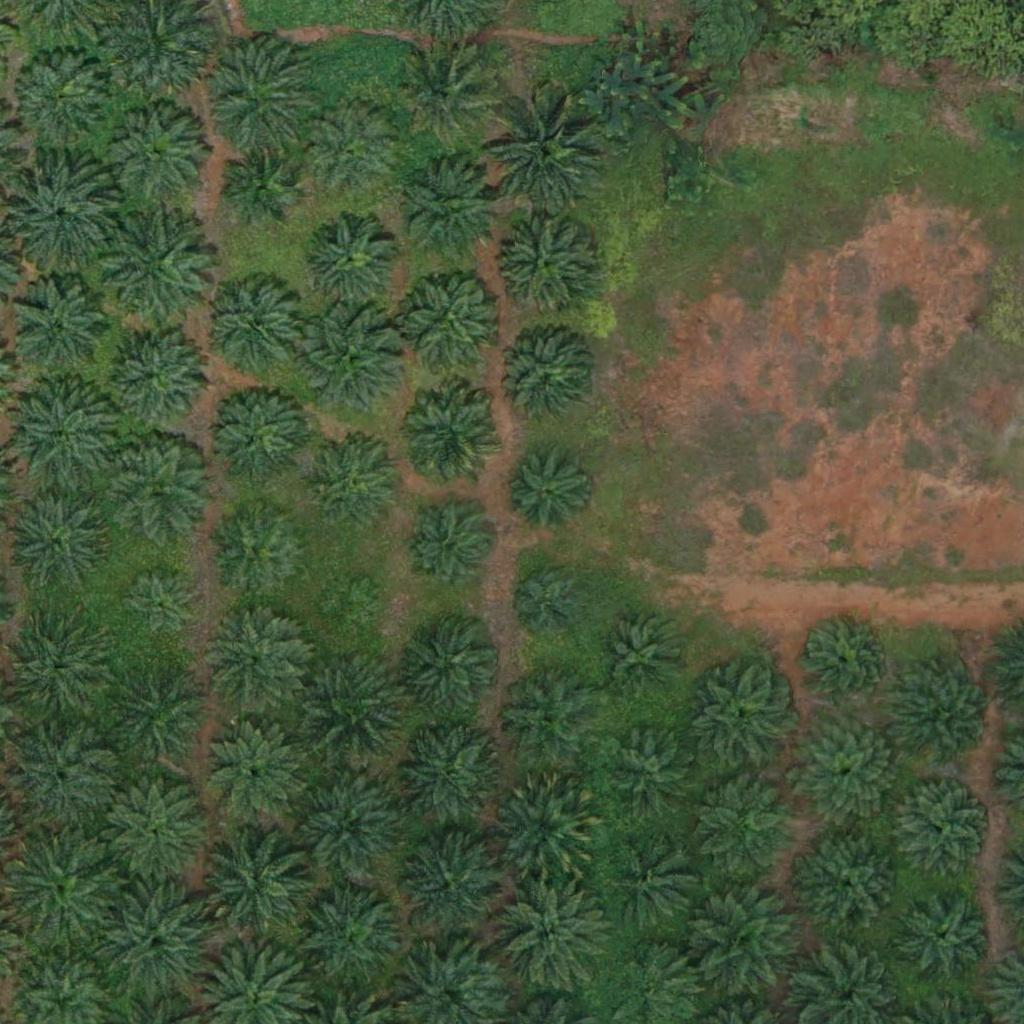Kelapa_Sawit: (201, 42, 314, 156), (393, 263, 506, 377), (291, 302, 404, 416), (791, 716, 904, 830), (795, 828, 908, 942), (489, 772, 602, 885), (392, 613, 505, 726), (8, 381, 121, 494), (6, 825, 119, 938), (103, 885, 216, 998), (493, 876, 606, 989), (99, 96, 211, 210), (491, 99, 603, 212), (3, 149, 115, 262), (101, 214, 213, 327), (396, 157, 508, 270), (393, 721, 505, 834), (294, 650, 406, 763), (292, 772, 404, 885), (4, 722, 116, 835), (200, 826, 312, 939), (290, 879, 402, 992), (693, 886, 805, 999), (401, 47, 501, 148), (9, 278, 109, 379), (495, 213, 595, 314), (497, 669, 597, 770), (308, 432, 408, 533), (206, 381, 306, 482), (210, 500, 310, 601), (202, 608, 302, 709), (202, 719, 302, 820), (106, 326, 206, 427), (107, 438, 207, 539), (109, 664, 209, 765), (107, 780, 207, 881), (7, 487, 107, 588), (4, 620, 104, 721), (398, 834, 498, 935), (894, 668, 994, 769), (10, 44, 110, 144), (199, 277, 299, 377), (301, 100, 401, 200), (298, 212, 398, 312), (497, 327, 597, 427), (398, 387, 498, 487), (690, 668, 790, 768), (703, 778, 803, 878), (894, 777, 994, 877), (897, 888, 997, 988), (502, 451, 590, 539), (597, 613, 685, 701), (608, 843, 696, 931), (613, 733, 700, 821), (404, 503, 491, 591), (798, 616, 885, 704), (222, 146, 297, 222), (120, 570, 195, 645), (515, 571, 578, 634), (317, 574, 379, 637)
